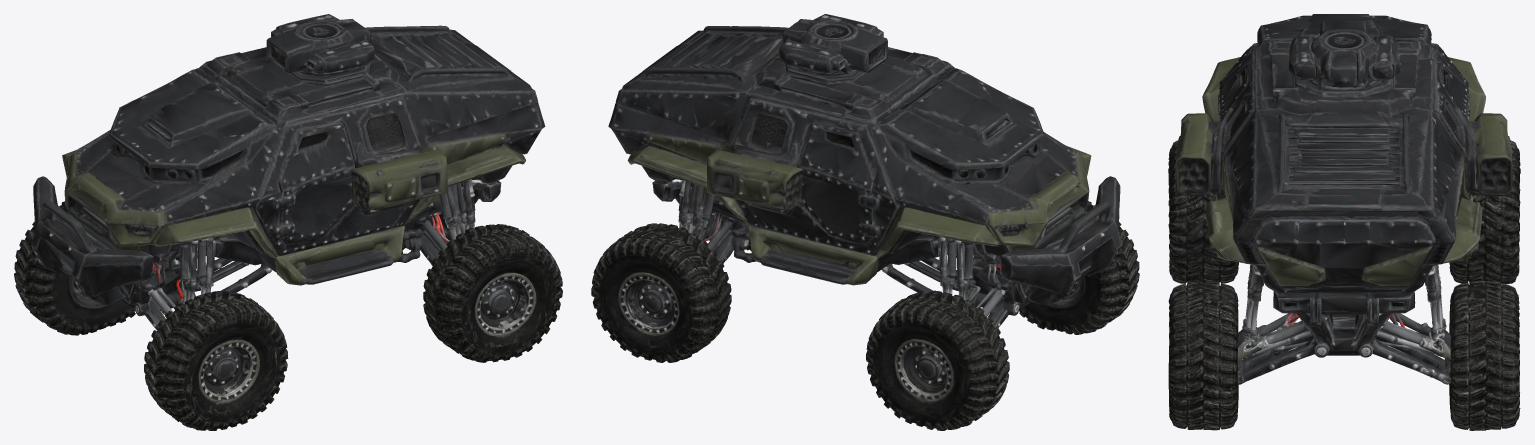
Rendered from james_rover.glb.
3 renders of one model, left to right at view 1: azimuth 30°, elevation 25°; view 2: azimuth 150°, elevation 25°; view 3: azimuth 270°, elevation 25°, orthographic. The views are drawn at different scales.
Visible parts, largest first — view 1: Mesh_0; view 2: Mesh_0; view 3: Mesh_0.
Boxes of the visible parts, x1,y1,x2,y2 form: Mesh_0: [14, 14, 562, 430]; Mesh_0: [591, 14, 1139, 430]; Mesh_0: [1168, 14, 1520, 430].
Bounding box in the file's own units: 1.9 × 1.23 × 1.21.
1 material, 1 textured.
